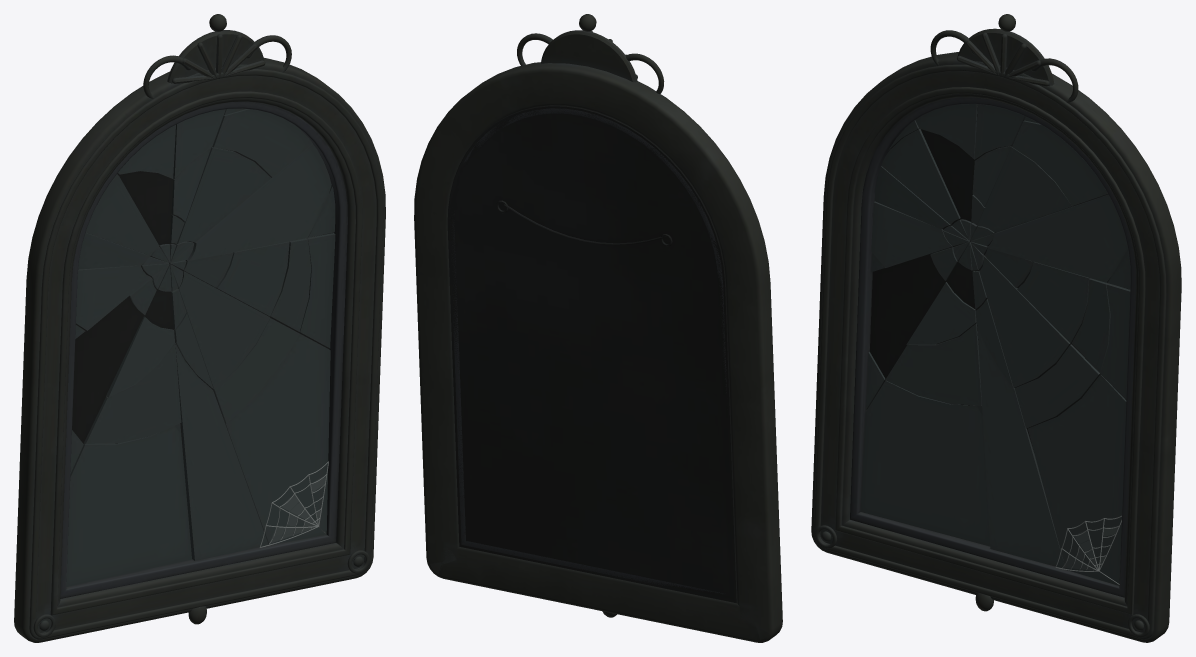
Rendered from cracked-mirror.glb.
3 renders of one model, left to right at view 1: azimuth 30°, elevation 25°; view 2: azimuth 150°, elevation 25°; view 3: azimuth 330°, elevation 25°, orthographic.
Visible parts, largest first — view 1: cracked-mirror_body, cracked-mirror_web; view 2: cracked-mirror_body; view 3: cracked-mirror_body, cracked-mirror_web.
Boxes of the visible parts, x1,y1,x2,y2 form: cracked-mirror_body: [14, 14, 385, 642]; cracked-mirror_web: [259, 461, 328, 547]; cracked-mirror_body: [414, 14, 782, 642]; cracked-mirror_body: [811, 14, 1181, 642]; cracked-mirror_web: [1055, 515, 1121, 584].
Size of the model in its own units: 0.745 by 1.18 by 0.0598.
Materials: 3 (1 with a texture image).
